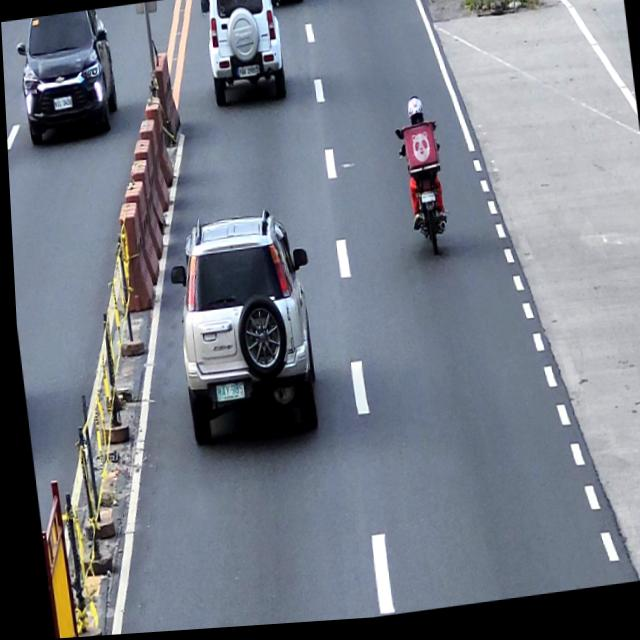Car: (161, 205, 323, 450), (12, 9, 119, 146), (199, 0, 286, 111)
License-Plate: (210, 383, 241, 405), (236, 66, 259, 81), (51, 96, 72, 112), (417, 196, 433, 209)
Motorcycle: (392, 127, 450, 264)
